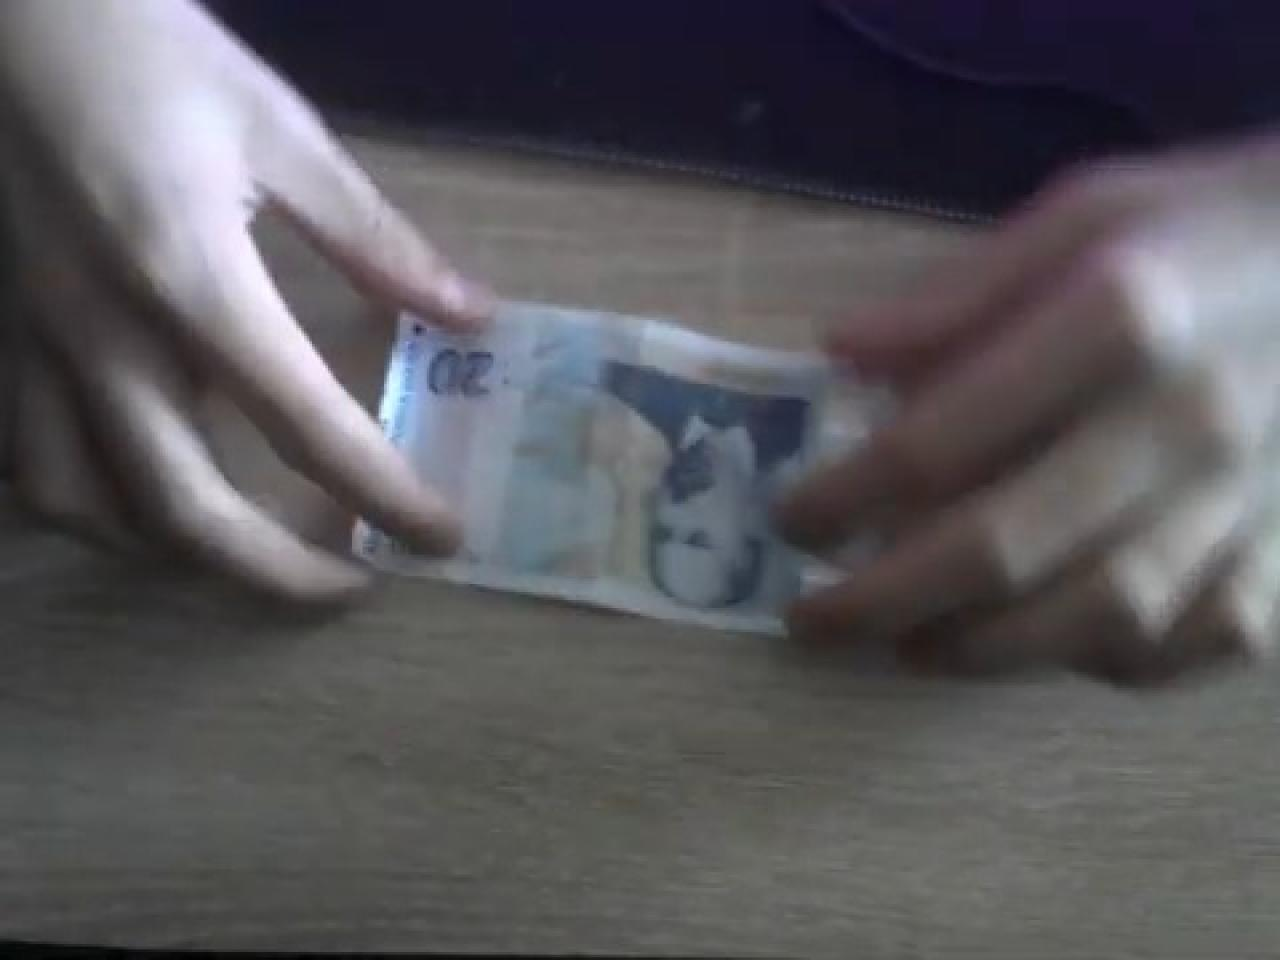20leva: (371, 302, 840, 640)
